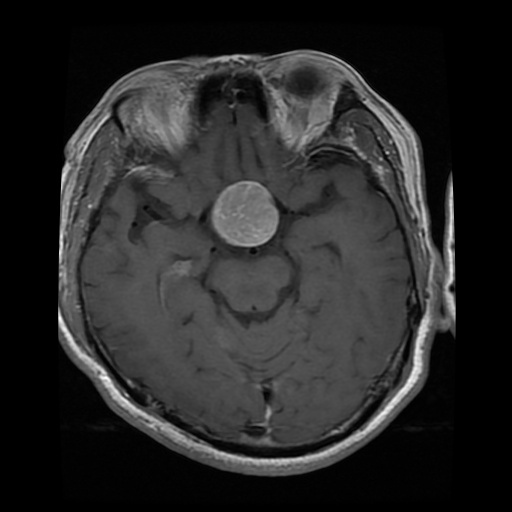pituitary: (212, 180, 277, 247)
